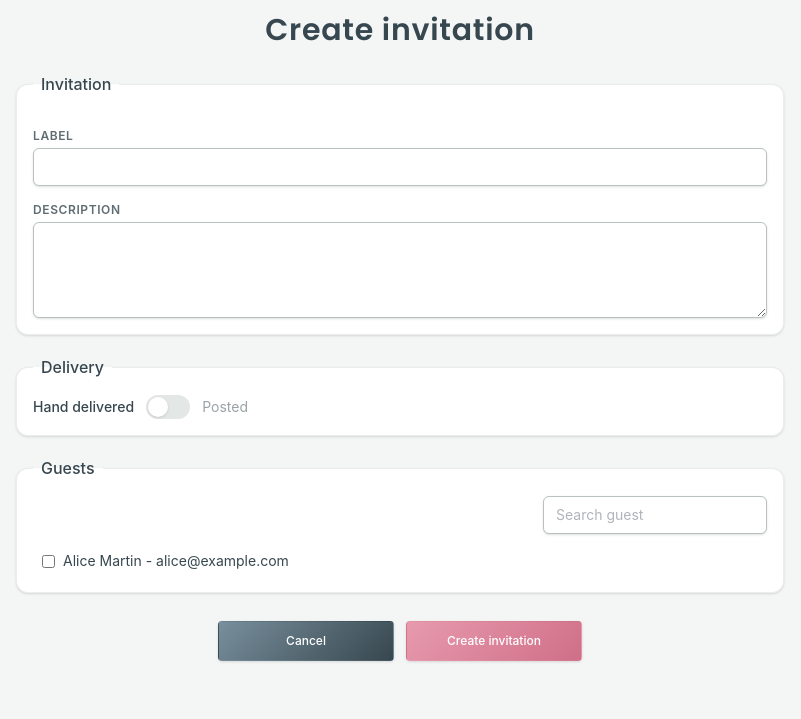
Test: CreateInvitationView › shows api error when submit fails
Type "Family table" into the field with test id "invitation-label-input".
click(400, 167); type("Family table")  # box [33,148,767,186]
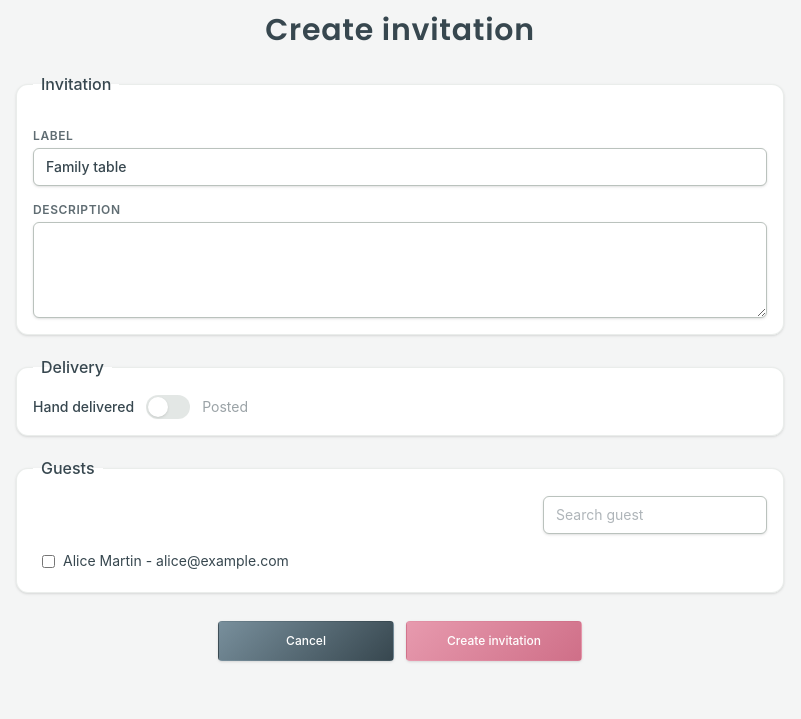
Click the checkbox with test id "guest-checkbox".
click(48, 561)  # box [42,554,55,568]
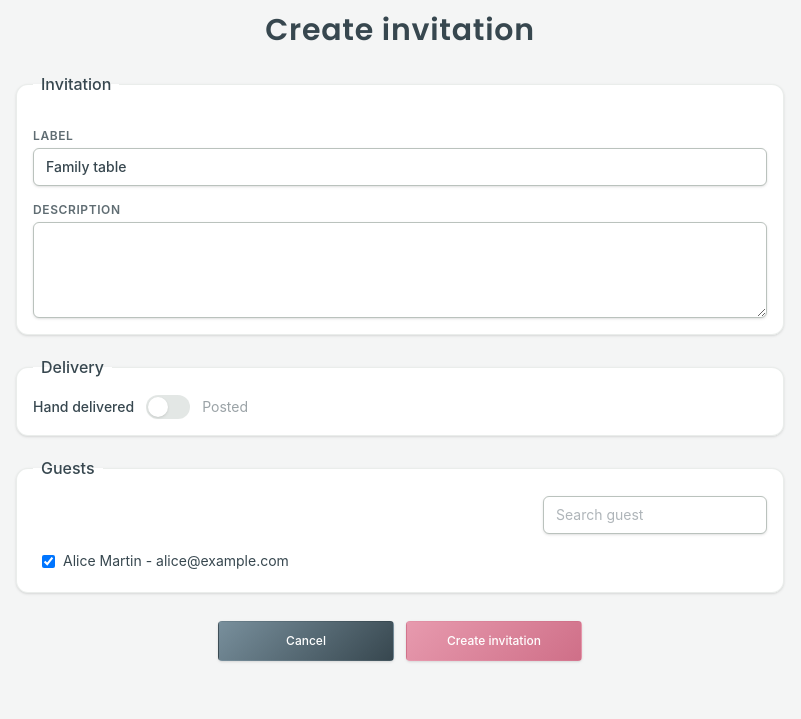
Submit the form
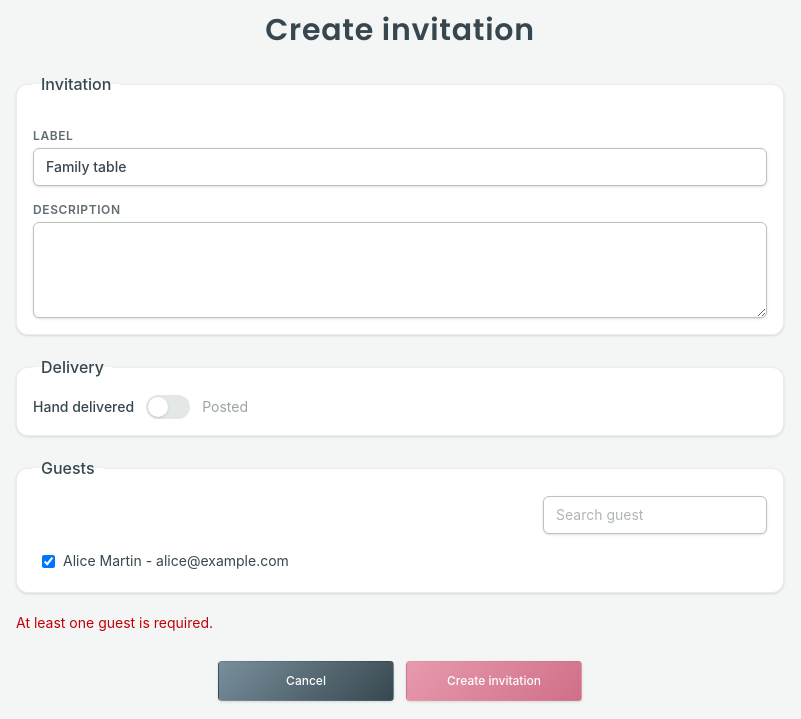
Expected: the text with test id "invitation-submit-error" reads "At least one guest is required.", [16,614,213,631]
